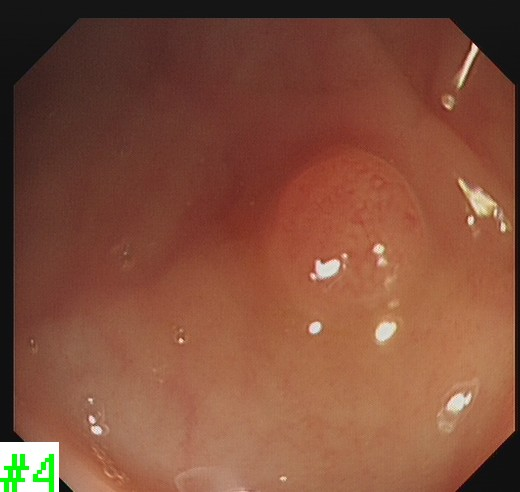adenoma: (269, 144, 431, 330)
